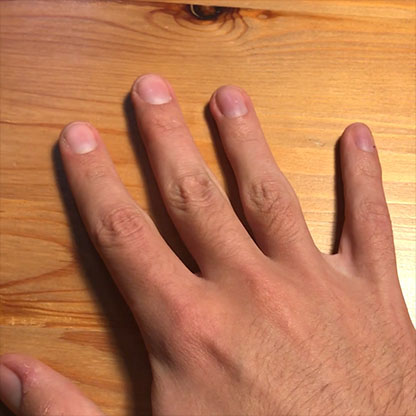fingertip: (200, 79, 260, 128), (338, 114, 386, 166), (126, 75, 181, 115), (59, 119, 109, 160)
